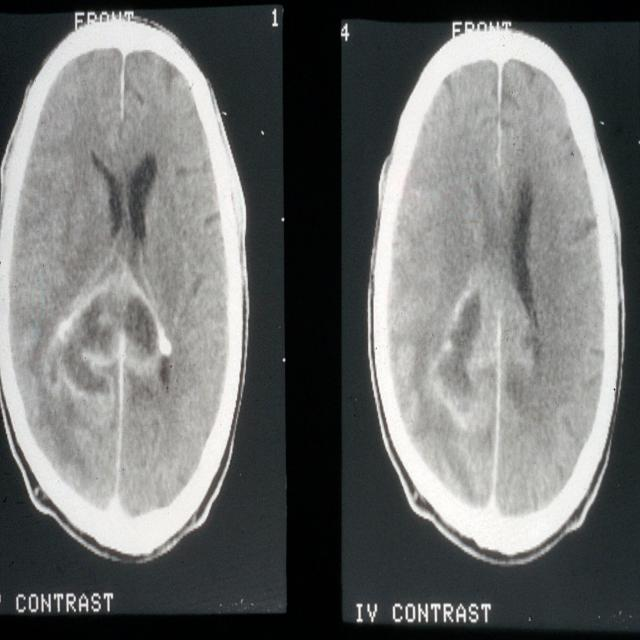Tumor: (42, 255, 172, 419), (428, 258, 537, 442)
